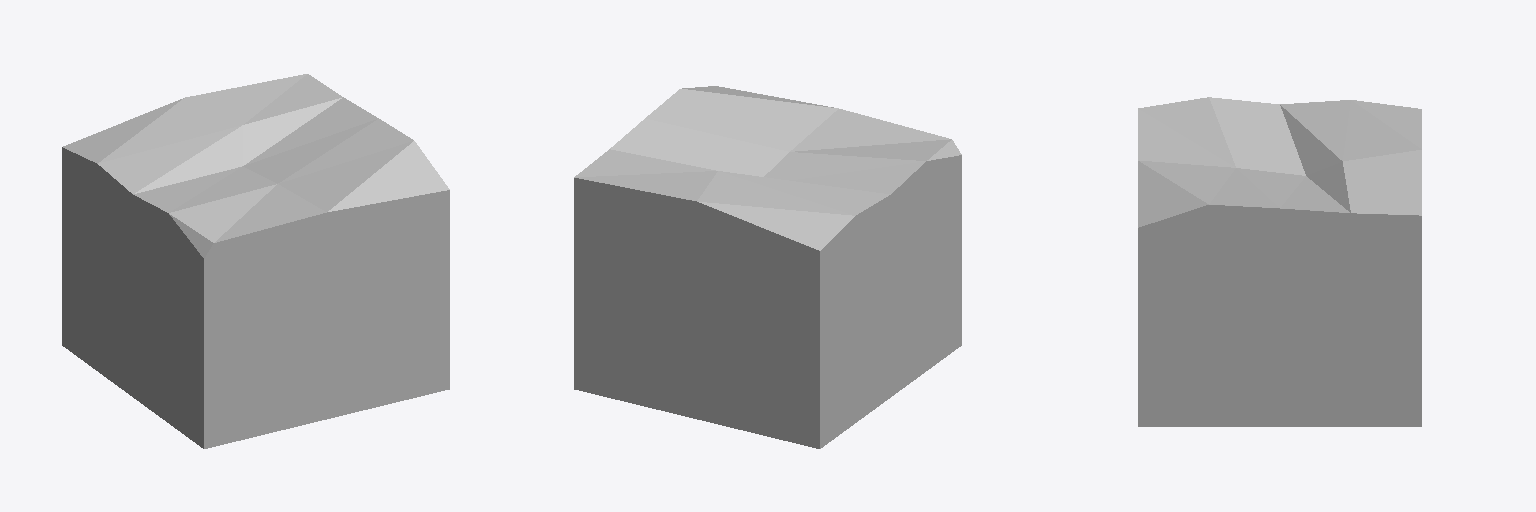
File: grassP2.obj
The picture shows the model from 3 angles: view 1: azimuth 30°, elevation 25°; view 2: azimuth 150°, elevation 25°; view 3: azimuth 270°, elevation 25°; orthographic projection.
Visible parts, largest first — view 1: Cube; view 2: Cube; view 3: Cube.
Boxes of the visible parts, x1=… form: Cube: x1=62, y1=74, x2=449, y2=448; Cube: x1=574, y1=86, x2=961, y2=448; Cube: x1=1138, y1=97, x2=1421, y2=426.
Bounding box in the file's own units: 159 × 138 × 159.